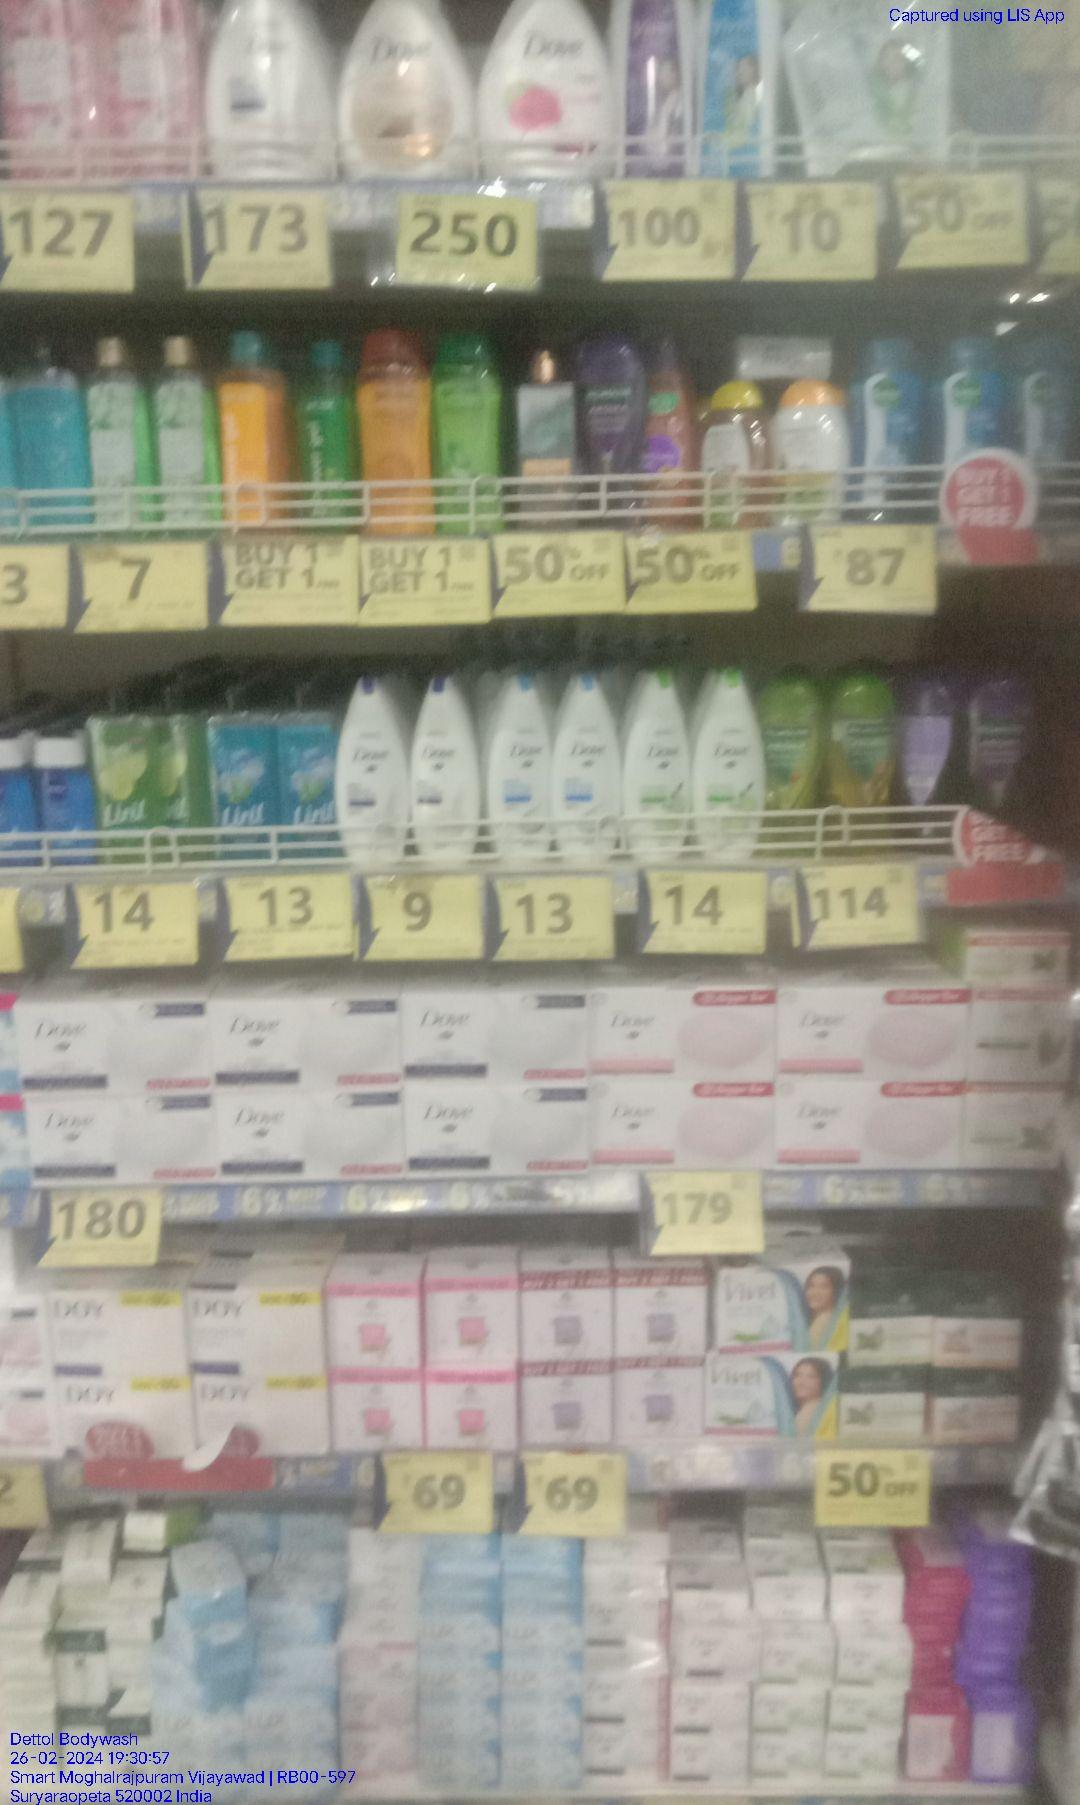Dettol_Bodywash_Cool: (850, 328, 923, 532), (930, 333, 1013, 512), (1014, 332, 1080, 505)
Dove_Deep_Moisture_Body_Wash_250ML: (409, 678, 482, 873), (341, 672, 411, 868)
Dove_Gentle_Exfoliating_Body_Wash_250ML: (553, 671, 621, 867), (486, 665, 553, 861)
Dove_Refreshing_Body_Wash_250ML: (631, 667, 696, 869), (699, 665, 761, 864)
Get_Real_Shower_Gel_Moisturising_Glycerin_300ML: (359, 328, 436, 541)
Joy_Shower_Gel_Mandarin_and_Lemongrass_250ML: (643, 334, 701, 525)
Liril_Cooling_Mint_Body_Wash_250ML: (208, 679, 275, 865), (278, 676, 337, 868)
Liril_Lime_and_Tea_Tree_Oil_Body_Wash_250ML: (93, 681, 167, 870)
Lux_Body_Wash_Skin_Detox_Freesia_Scent_and_Alove_Vera_245ML: (156, 321, 221, 544), (87, 329, 153, 545)
Palmolive_Aroma_Morning_Tonic_Shower_Gel_250ML: (825, 678, 891, 863), (765, 672, 822, 859)
Palmolive_Aroma_Relax_250ML: (580, 330, 640, 532)
